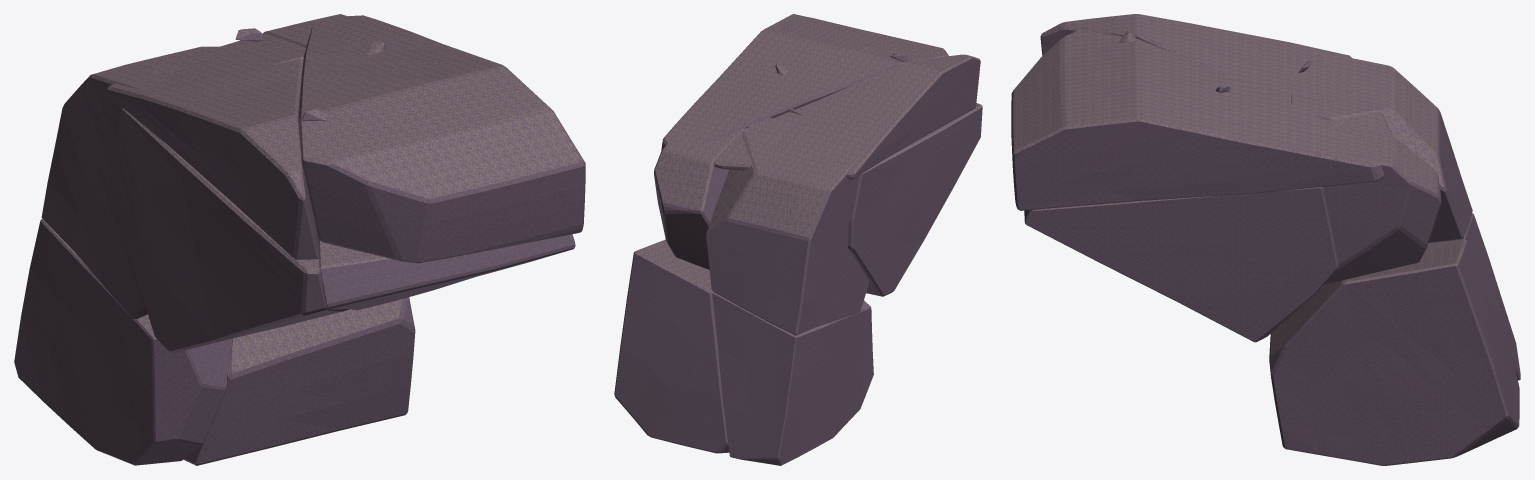
File: A03_Overhang.fbx
3 views of the same model, side by side, from view 1: azimuth 30°, elevation 25°; view 2: azimuth 150°, elevation 25°; view 3: azimuth 270°, elevation 25° (orthographic). The views are drawn at different scales.
Visible parts, largest first — view 1: A03_console_3, A03_support_0, A03_console_0, A03_support_1, A03_console_1, A03_support_2, A03_console_2, A03_support_3; view 2: A03_support_2, A03_support_0, A03_support_1, A03_console_3, A03_console_1, A03_console_0, A03_support_3; view 3: A03_console_3, A03_support_1, A03_console_2, A03_support_3, A03_console_1, A03_support_2, A03_support_0.
Part boxes in pixels (bbox=[...]): A03_console_3: bbox=[299, 15, 585, 263]; A03_support_0: bbox=[14, 219, 233, 465]; A03_console_0: bbox=[110, 108, 349, 353]; A03_support_1: bbox=[183, 297, 415, 465]; A03_console_1: bbox=[106, 33, 319, 259]; A03_support_2: bbox=[41, 45, 306, 319]; A03_console_2: bbox=[318, 234, 575, 310]; A03_support_3: bbox=[262, 14, 368, 47]; A03_support_2: bbox=[705, 117, 869, 335]; A03_support_0: bbox=[712, 291, 873, 465]; A03_support_1: bbox=[614, 239, 729, 453]; A03_console_3: bbox=[661, 14, 948, 150]; A03_console_1: bbox=[713, 54, 980, 179]; A03_console_0: bbox=[847, 103, 982, 296]; A03_support_3: bbox=[654, 126, 746, 269]; A03_console_3: bbox=[1011, 29, 1384, 210]; A03_support_1: bbox=[1269, 239, 1519, 465]; A03_console_2: bbox=[1024, 187, 1338, 342]; A03_support_3: bbox=[1323, 120, 1441, 285]; A03_console_1: bbox=[1040, 14, 1392, 135]; A03_support_2: bbox=[1291, 51, 1472, 242]; A03_support_0: bbox=[1456, 213, 1520, 380].
Size of the model in its own units: 6.51 by 10.11 by 13.05.
